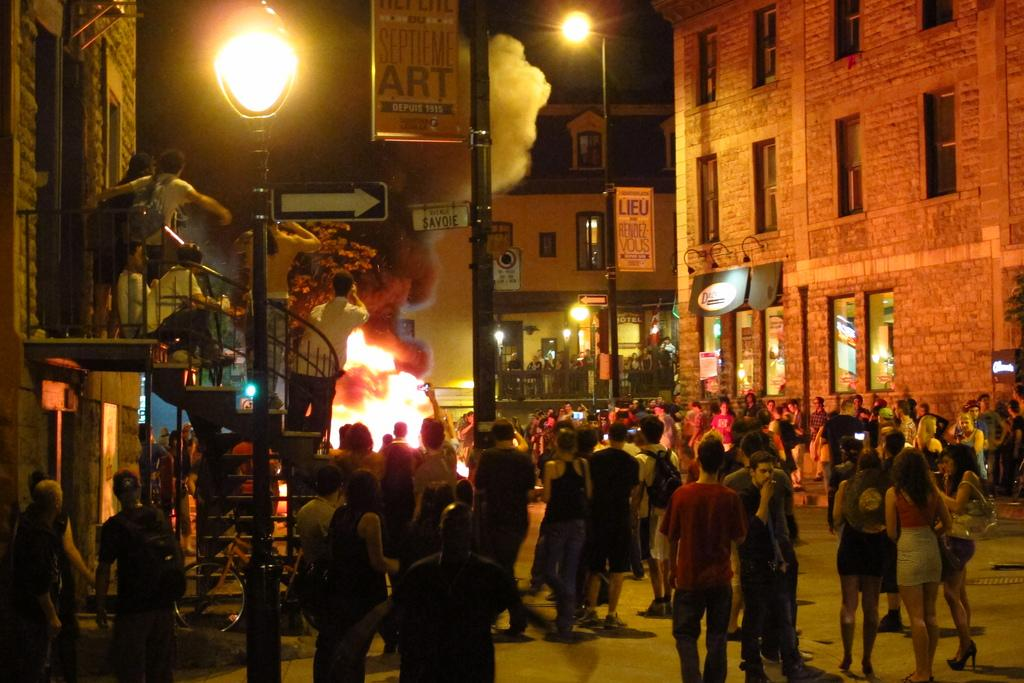fire: (337, 328, 428, 425)
